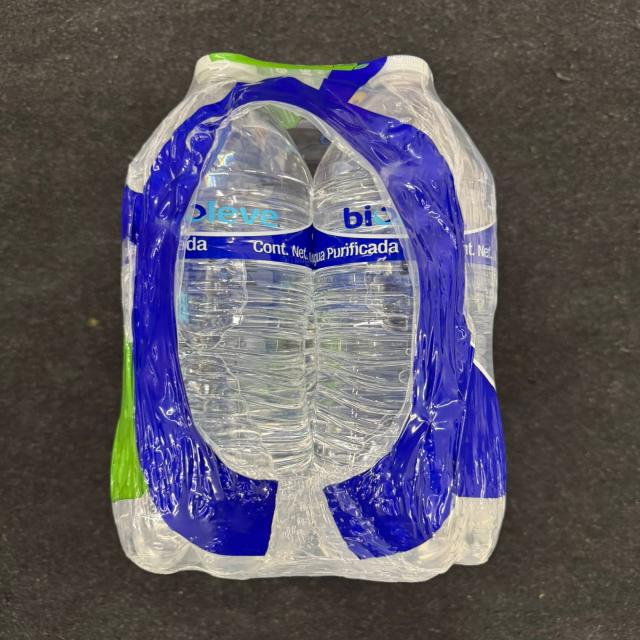AGUA PURIFICADA BIOLEVE 0.5L 8 PACK: (114, 50, 508, 586)
